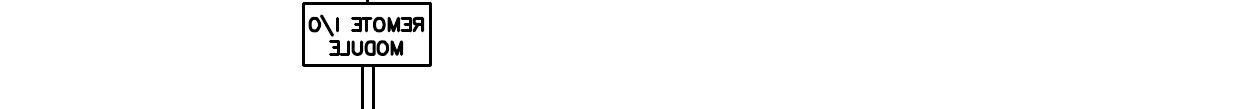remote_io_module: (302, 2, 433, 68)
